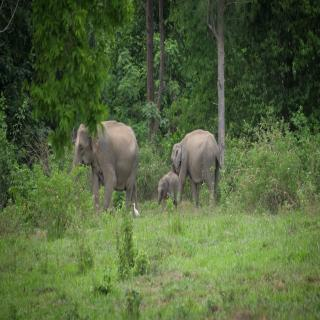Elephant: (70, 114, 145, 224), (169, 124, 225, 208), (156, 169, 182, 218)
